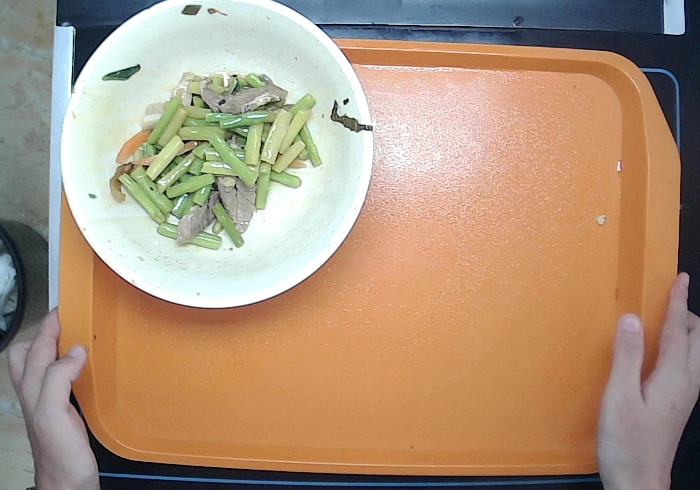ZNLD-Da_Tang_Wan: (57, 1, 375, 311)
